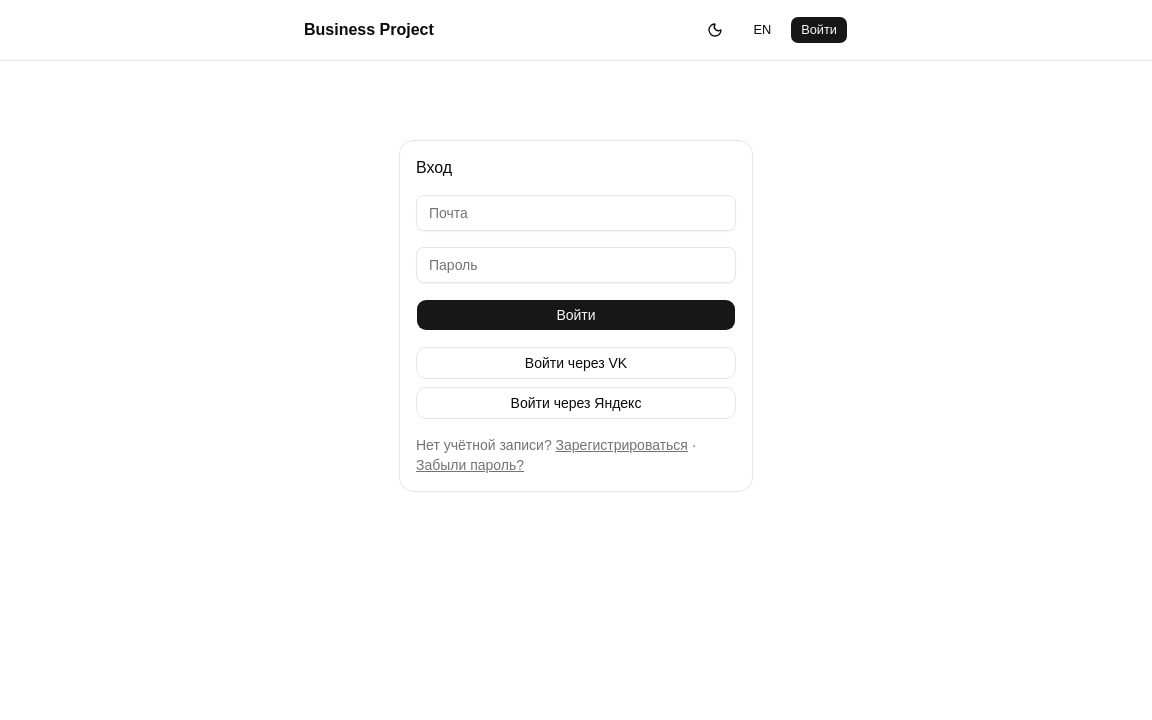
Scenario: ошибка без привязки к полю показывается под формой целиком
This screenshot has width=1152, height=720.
In the field with placeholder "Почта": {"x": 576, "y": 213} x1=416 y1=195 x2=736 y2=231, type "user@example.com"
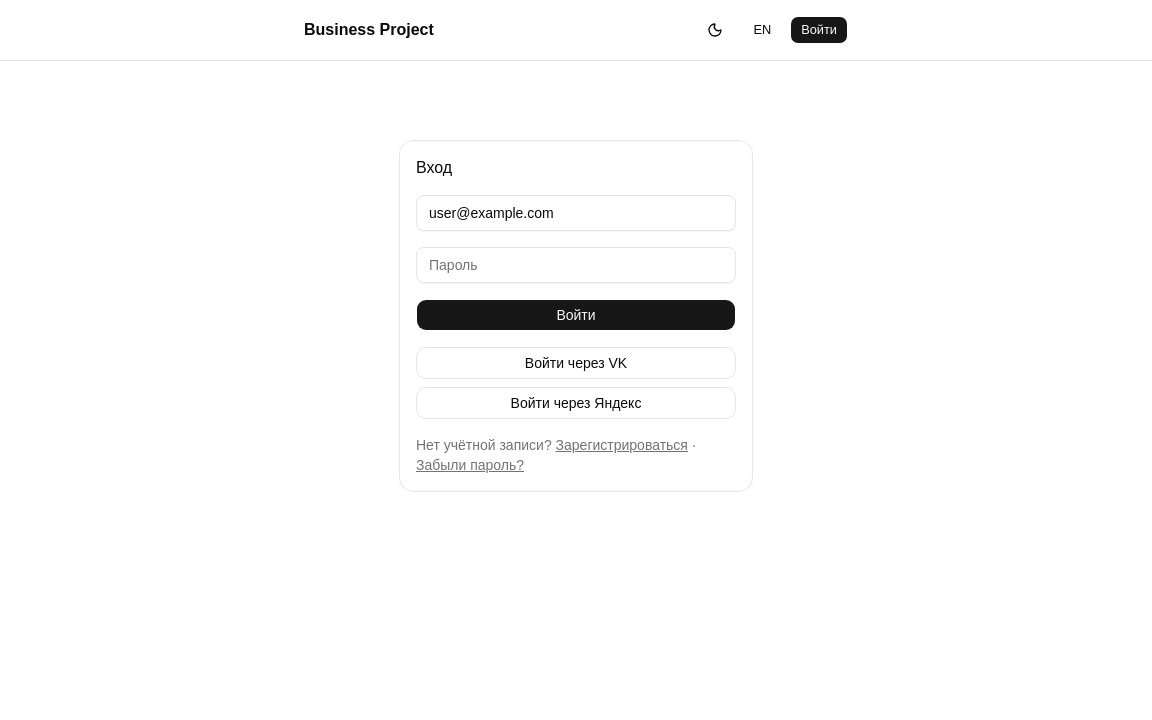
In the password field with placeholder "Пароль": {"x": 576, "y": 265} x1=416 y1=247 x2=736 y2=283, type "whatever-9"
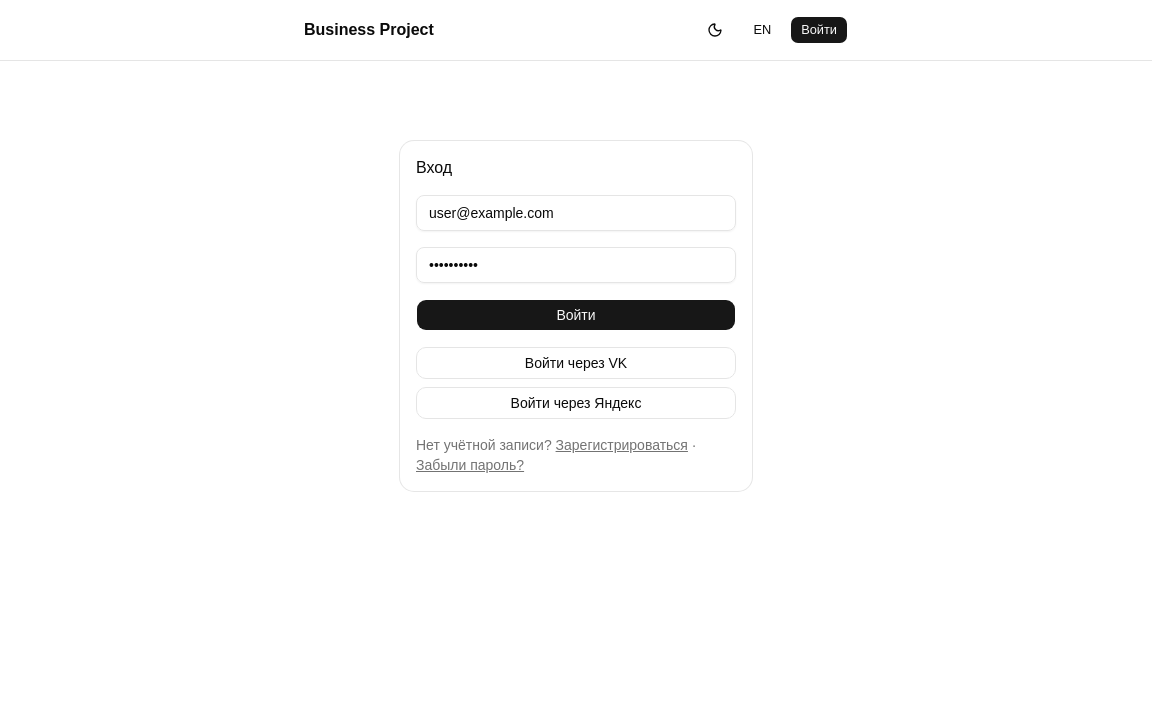
Click the button "Войти": {"x": 576, "y": 315} x1=416 y1=299 x2=736 y2=331
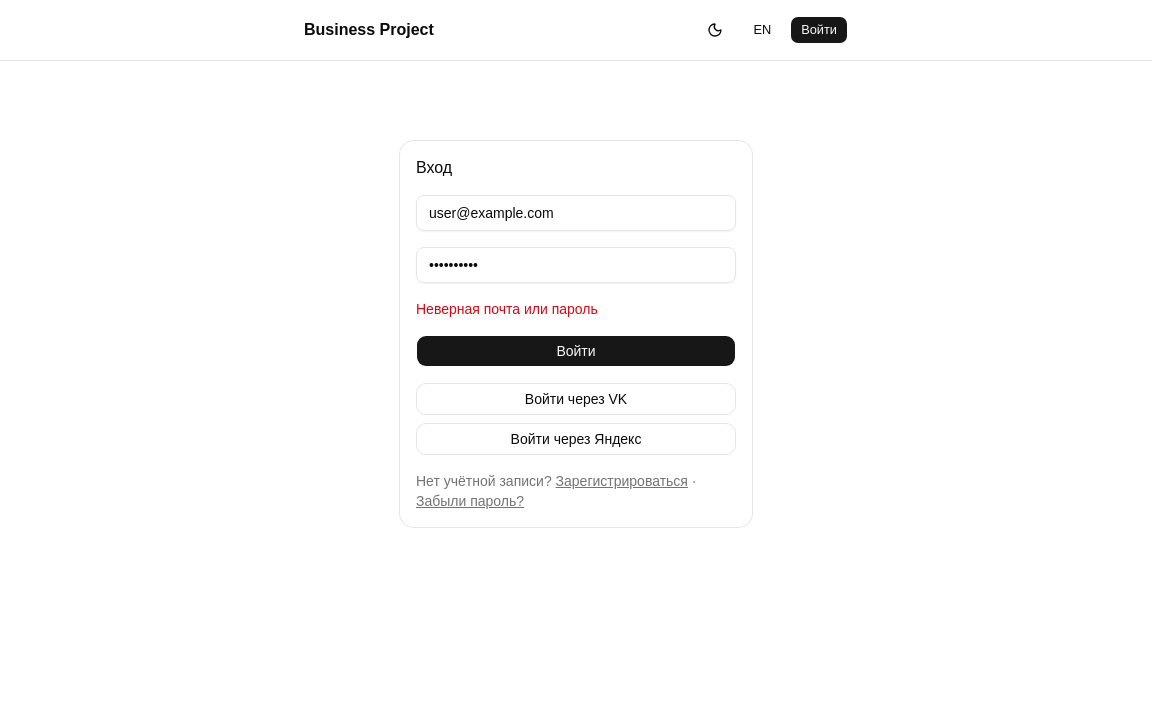
Now the message reads "Неверная почта или пароль", box x1=416 y1=301 x2=598 y2=317
